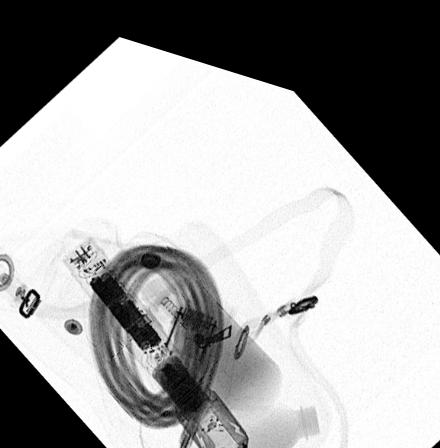Baton: (58, 228, 250, 448)
